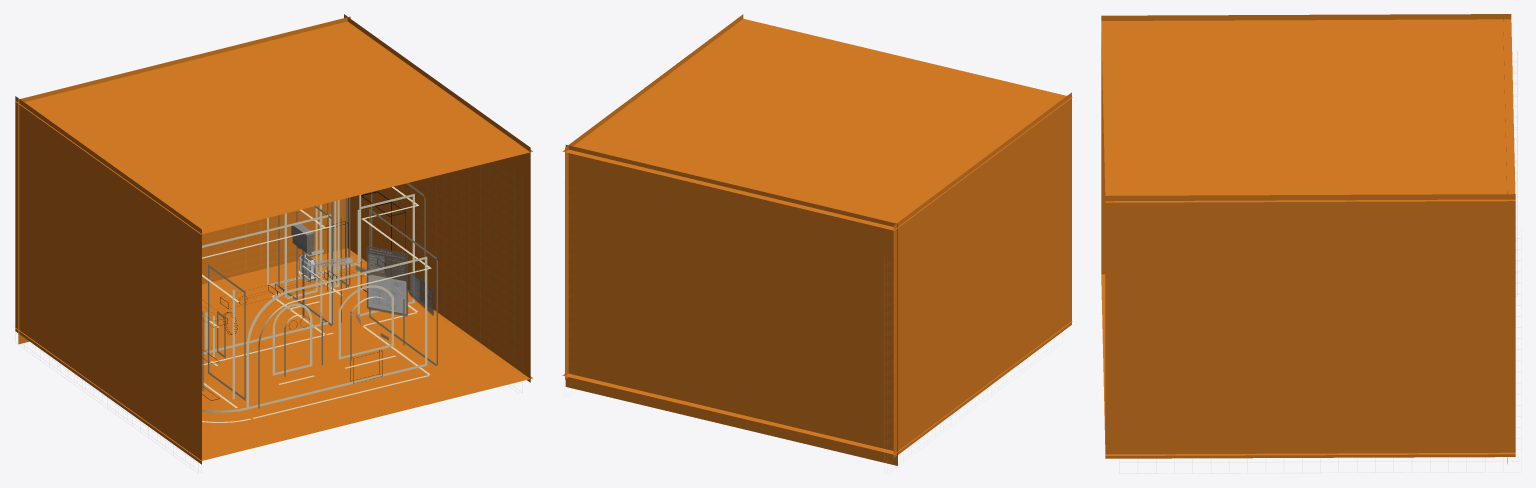
File: roomLeft4.glb
3 renders of one model, left to right at view 1: azimuth 30°, elevation 25°; view 2: azimuth 150°, elevation 25°; view 3: azimuth 270°, elevation 25°, orthographic. The views are drawn at different scales.
Visible parts, largest first — view 1: Plane.027, Plane.026, Plane.028, Plane.025, posta_v1.005, Plane.024, leftroomMunacipality, prices, Cube.012; view 2: Plane.024, Plane.027, Plane.026, Plane.025, Plane.028; view 3: Plane.025, Plane.027, Plane.026, Plane.028.
Boxes of the visible parts, <box> form: Plane.027: <box>15,21,532,234</box>; Plane.026: <box>15,96,201,464</box>; Plane.028: <box>15,248,532,460</box>; Plane.025: <box>344,14,530,382</box>; posta_v1.005: <box>202,183,437,422</box>; Plane.024: <box>18,16,350,344</box>; leftroomMunacipality: <box>366,246,407,316</box>; prices: <box>409,269,433,315</box>; Cube.012: <box>291,221,314,255</box>; Plane.024: <box>565,145,897,465</box>; Plane.027: <box>562,18,1072,230</box>; Plane.026: <box>893,92,1071,457</box>; Plane.025: <box>565,14,743,379</box>; Plane.028: <box>562,321,1072,454</box>; Plane.025: <box>1105,194,1515,458</box>; Plane.027: <box>1101,19,1515,202</box>; Plane.026: <box>1101,14,1511,274</box>; Plane.028: <box>1101,274,1515,455</box>.
Bounding box in the file's own units: 49.3 × 35.54 × 47.63.
Materials: 36 (18 with a texture image).
